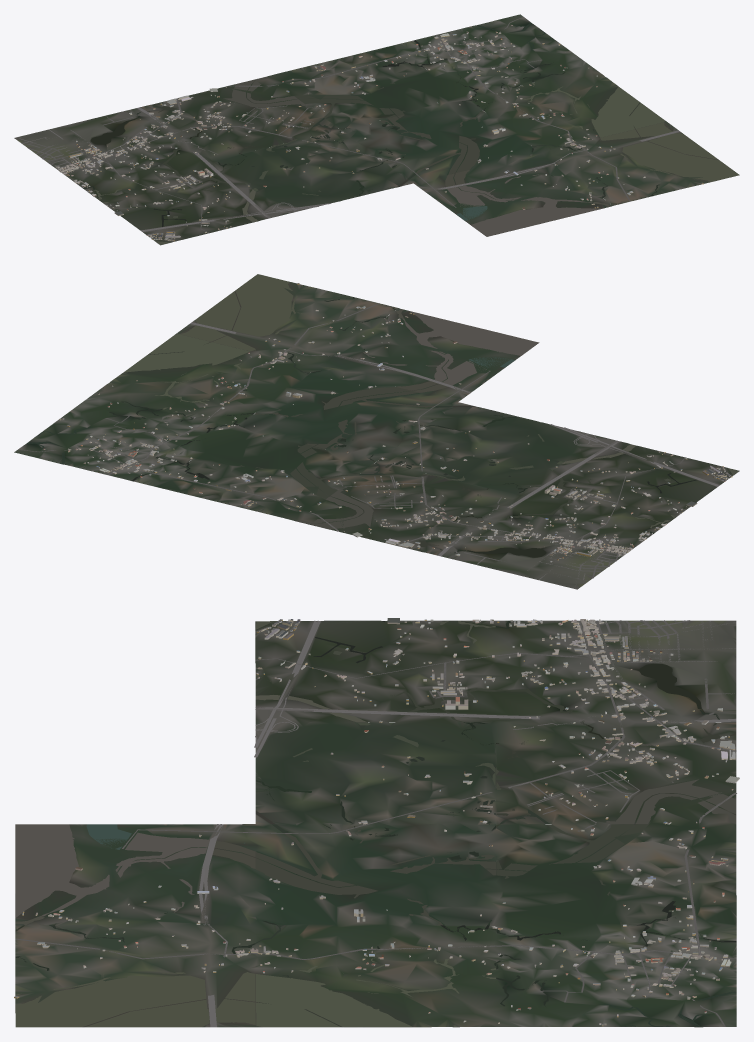
3 renders of one model, top to bottom at view 1: azimuth 30°, elevation 25°; view 2: azimuth 150°, elevation 25°; view 3: azimuth 270°, elevation 25°, orthographic. The views are drawn at different scales.
Visible parts, largest first — view 1: ground, water, buildings, roads; view 2: ground, water, buildings, roads; view 3: ground, water, buildings, roads.
Part boxes in pixels (left/top/right/bottom): ground: left=14, top=14, right=735, bottom=245; water: left=83, top=22, right=739, bottom=244; buildings: left=55, top=25, right=703, bottom=241; roads: left=16, top=17, right=680, bottom=233; ground: left=14, top=281, right=739, bottom=589; water: left=26, top=274, right=738, bottom=557; buildings: left=43, top=283, right=732, bottom=562; roads: left=18, top=303, right=719, bottom=588; ground: left=15, top=620, right=736, bottom=1027; water: left=15, top=620, right=736, bottom=1027; buildings: left=14, top=618, right=739, bottom=1026; roads: left=15, top=620, right=736, bottom=1027.
Bounding box in the file's own units: 5620 × 31.56 × 4230.
